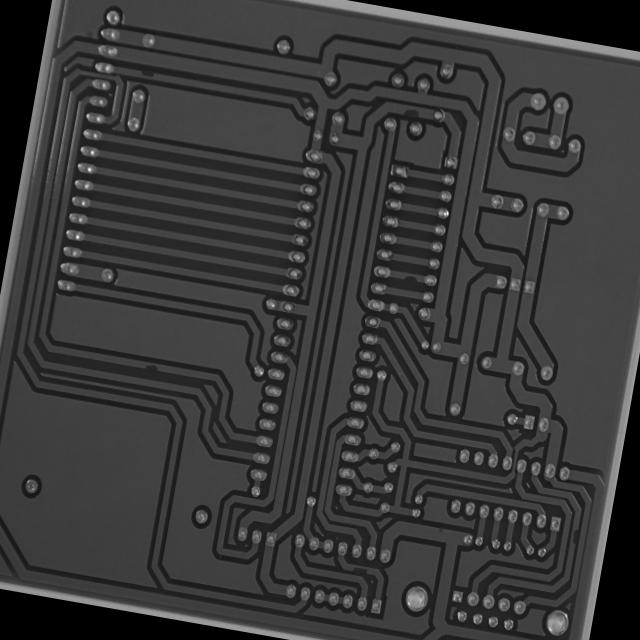mouse_bite: (396, 98, 425, 122), (137, 356, 163, 375), (397, 267, 422, 286), (348, 561, 371, 577), (137, 65, 158, 81), (568, 526, 582, 546)
